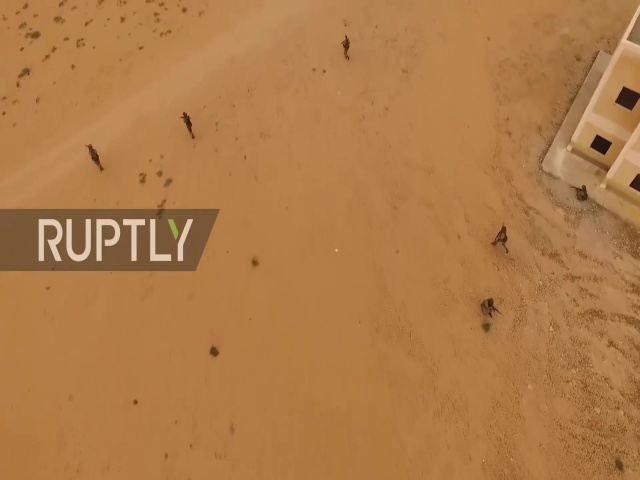person: (478, 291, 500, 325), (490, 224, 511, 256), (86, 142, 107, 174), (180, 110, 200, 143), (340, 34, 354, 64)
